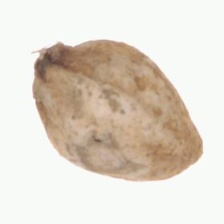L1: (30, 40, 74, 89), (182, 117, 204, 169)
L2: (32, 39, 203, 183)
